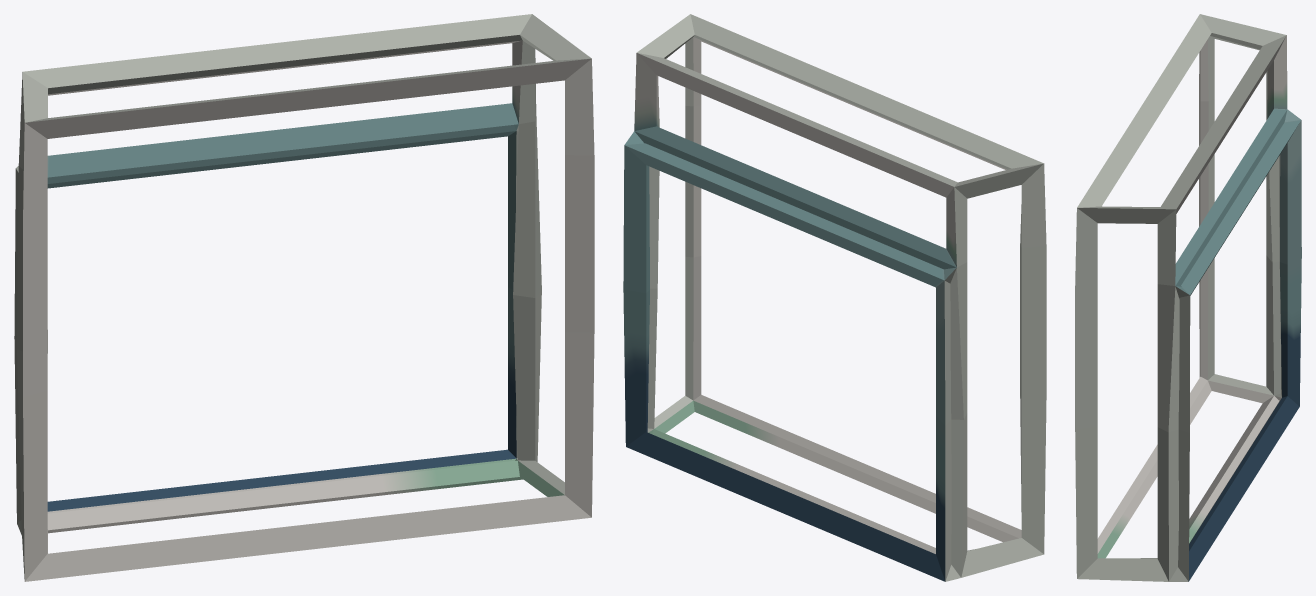
Rendered from hollow_half_wall.fbx.
The picture shows the model from 3 angles, left to right: view 1: azimuth 30°, elevation 25°; view 2: azimuth 150°, elevation 25°; view 3: azimuth 270°, elevation 25°; orthographic projection. The views are drawn at different scales.
Visible parts, largest first — view 1: plain_wall; view 2: plain_wall; view 3: plain_wall.
Boxes of the visible parts, x1=… form: plain_wall: x1=14, y1=14, x2=594, y2=581; plain_wall: x1=623, y1=14, x2=1046, y2=581; plain_wall: x1=1075, y1=14, x2=1301, y2=581.
Bounding box in the file's own units: 118 × 104 × 57.28.
Materials: 1 (1 with a texture image).
